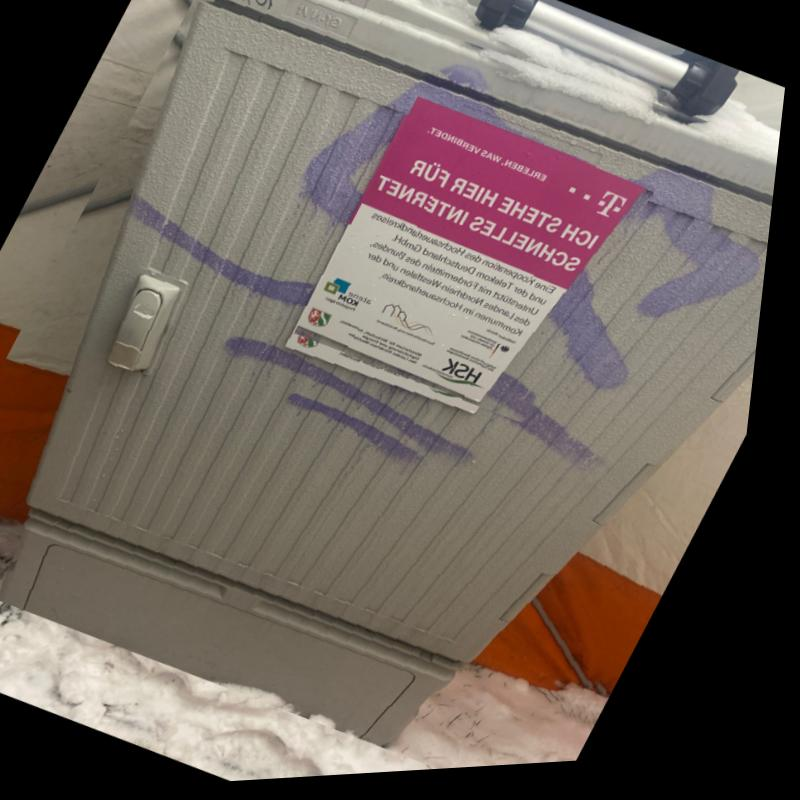NT-Gehause: (13, 0, 782, 757)
Steaker: (303, 102, 661, 411)
